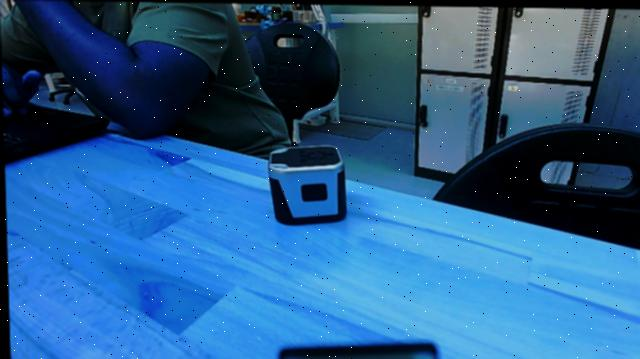adapter: (261, 143, 348, 228)
